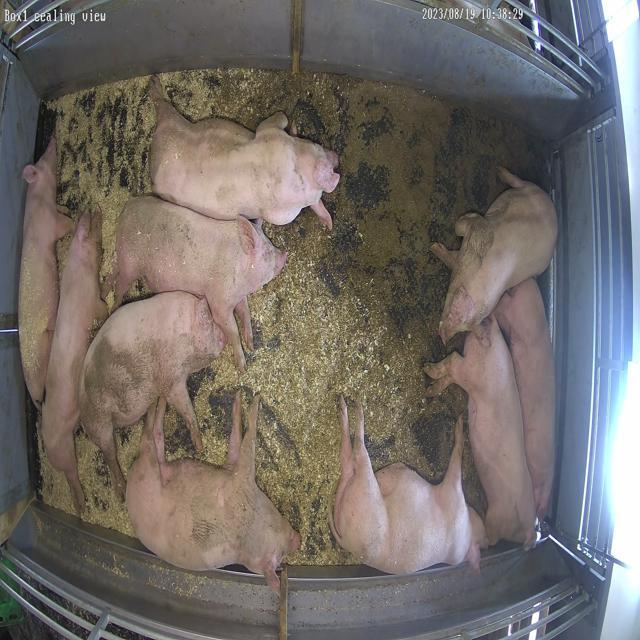Dirt: (241, 72, 536, 340)
Pig: (126, 397, 301, 592), (113, 196, 287, 370), (80, 293, 225, 498), (150, 78, 340, 228), (330, 397, 487, 576), (426, 315, 537, 546), (433, 168, 559, 342), (40, 209, 107, 514), (18, 139, 72, 408)
